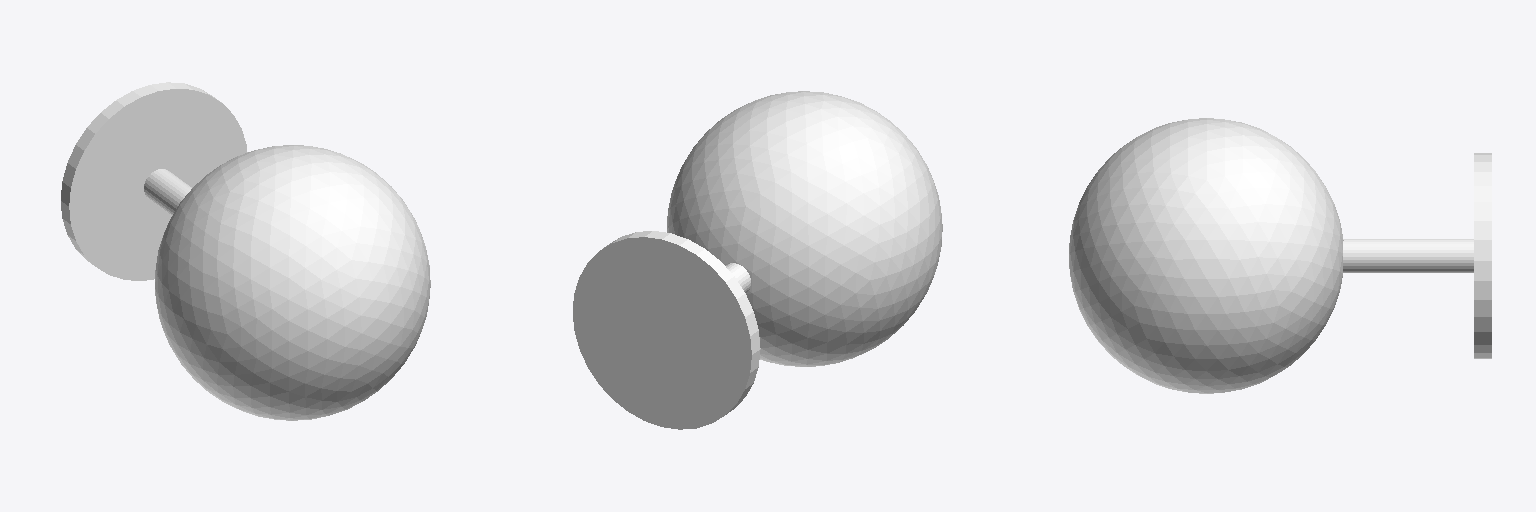
The model's file is asset_8673deb8-1c1b-455b-97e1-9aa181375f4b.obj.
3 renders of one model, left to right at view 1: azimuth 30°, elevation 25°; view 2: azimuth 150°, elevation 25°; view 3: azimuth 270°, elevation 25°, orthographic.
Bounding box in the file's own units: 0.8 × 0.8 × 1.23.